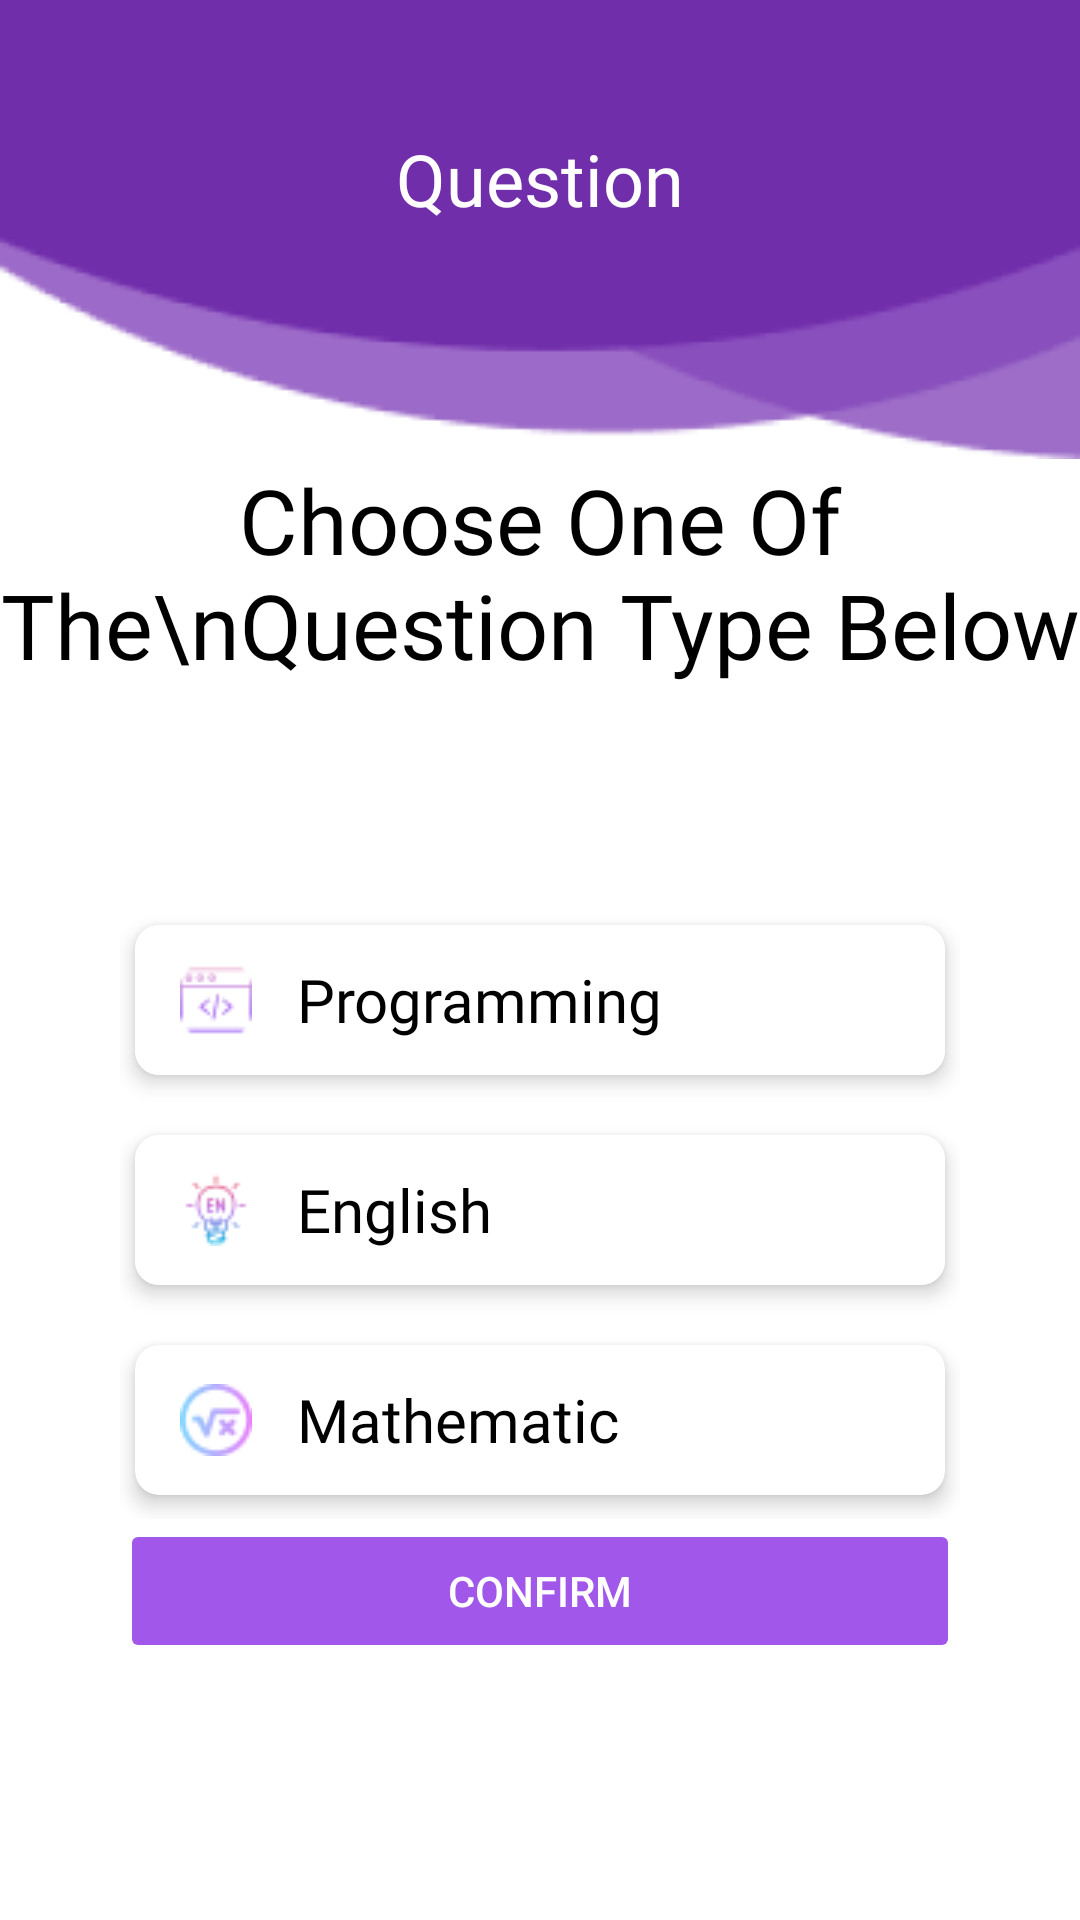

Icons on this 1080x1920 Android screen, each with its box as (x1, y1, x2, y2):
eng: (185, 1176, 247, 1246)
